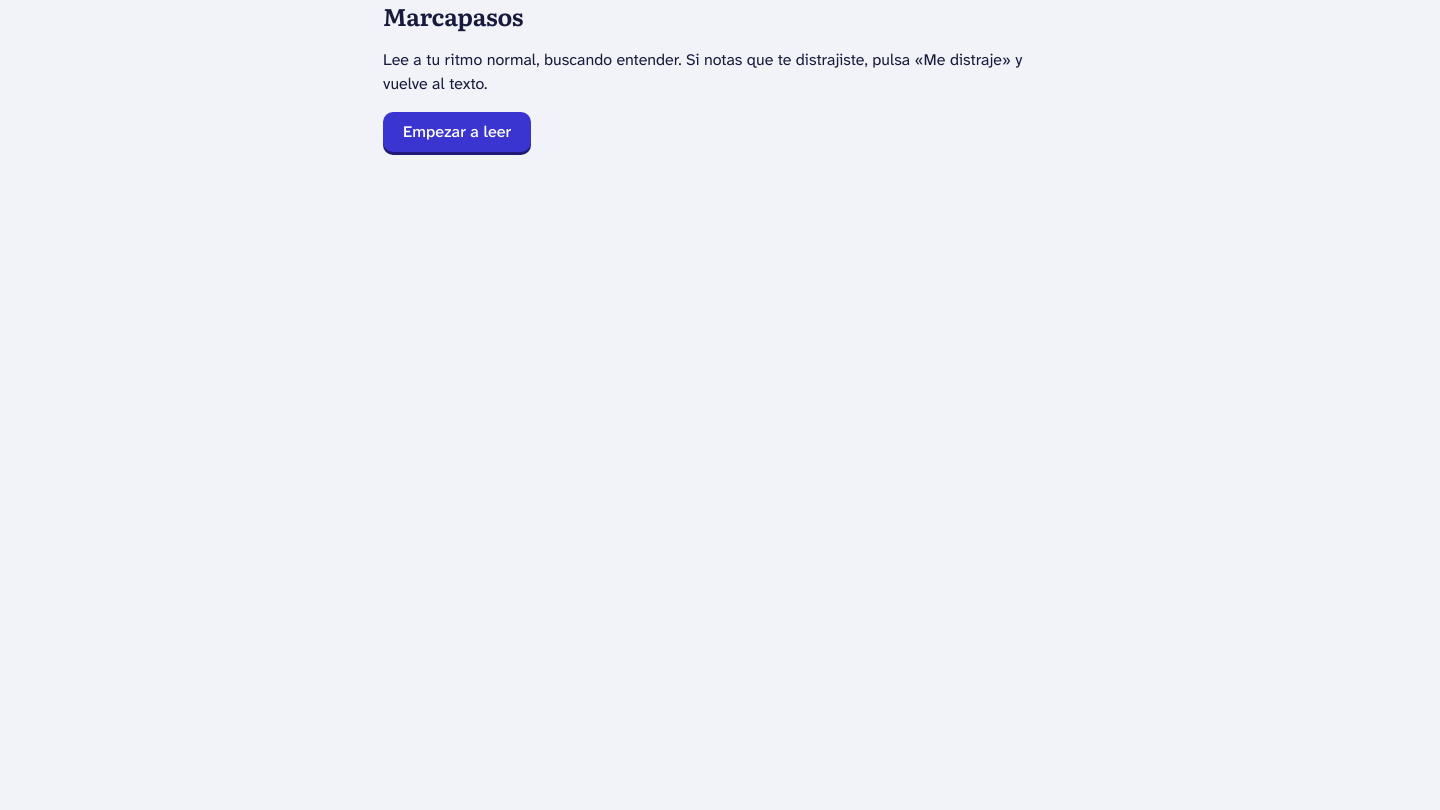
Test: ReadingView › el marcapasos avanza con el tiempo activo y se detiene durante un sondeo
This screenshot has width=1440, height=810.
Click the button "Empezar a leer" at (457, 132), box [383,112,531,152]
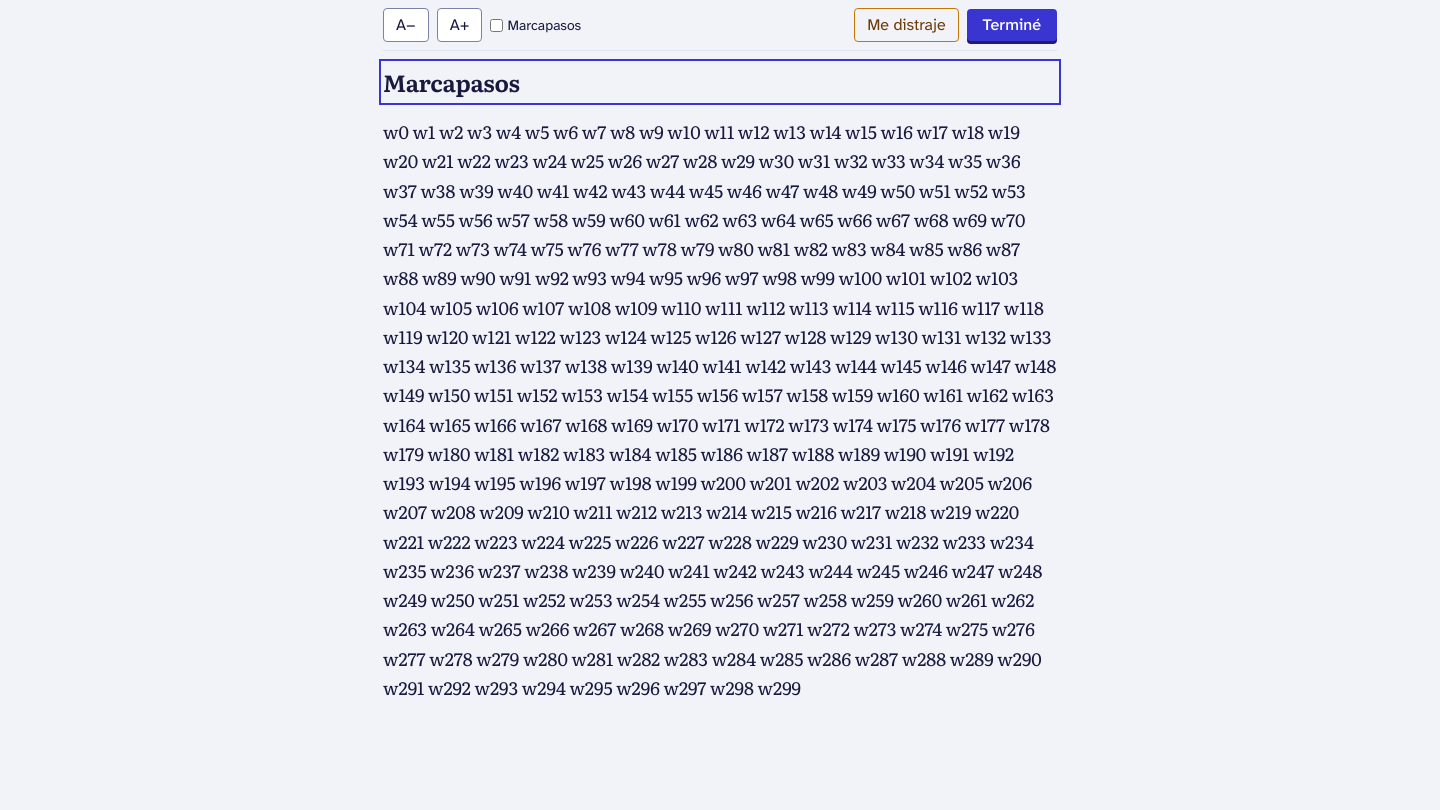
Click the checkbox labelled "Marcapasos" at (497, 25), box [490,18,504,32]
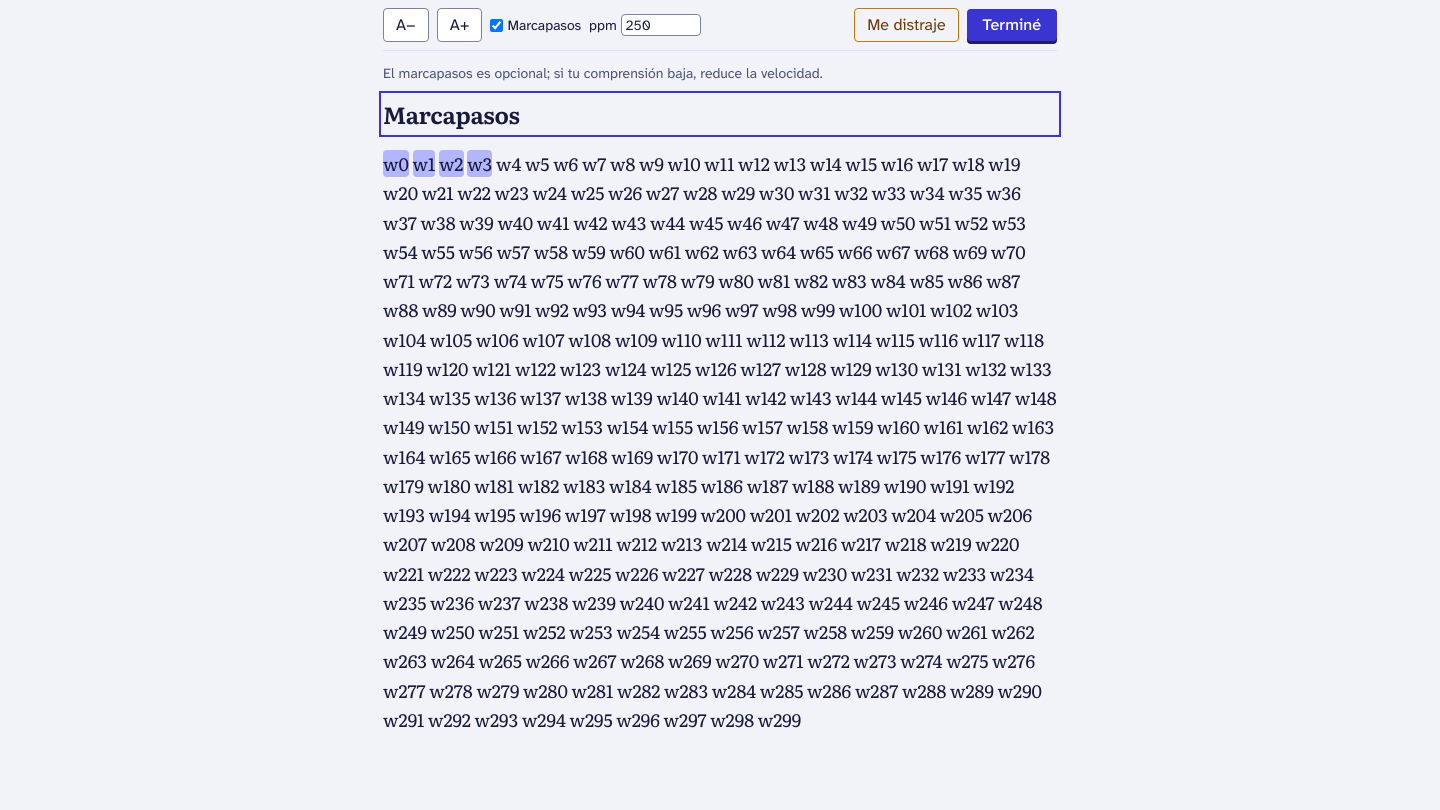
Replace the text in the number field labelled "ppm" with "240" at (661, 25), box [621,14,701,36]
Wait 46000 ms
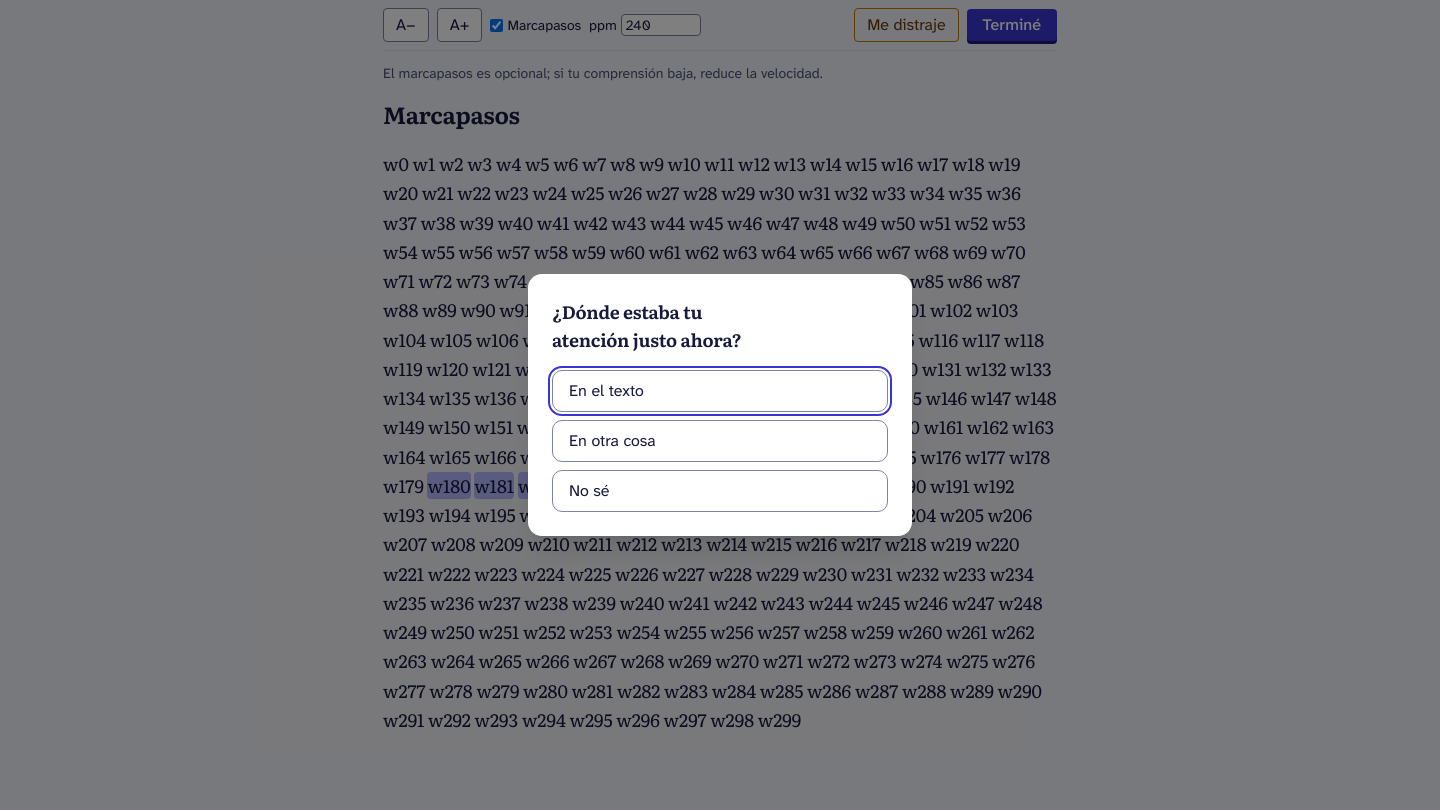
Check: the text "w12" is shown, box [738,150,770,177]
Check: the text "w180" is shown, box [427,472,470,499]
Check: the dialog is shown, box [528,274,912,536]
